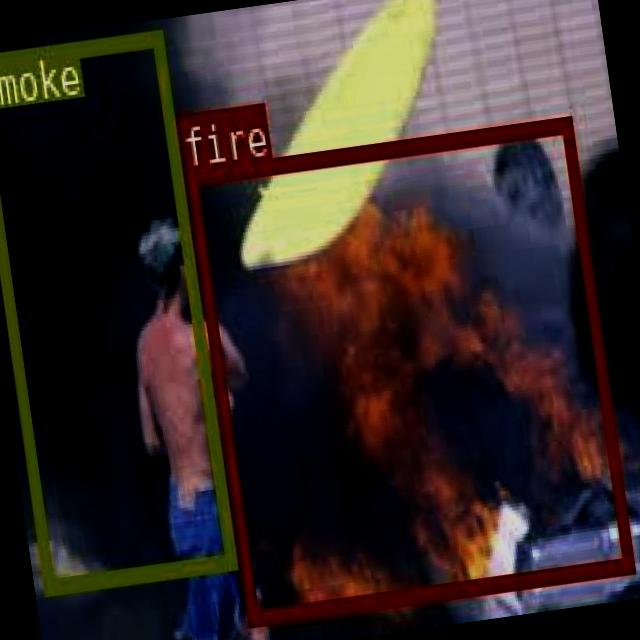fire: (182, 114, 632, 624)
smoke: (0, 29, 234, 592)
